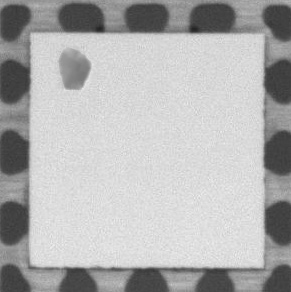DIE_INK: (53, 42, 95, 94)
